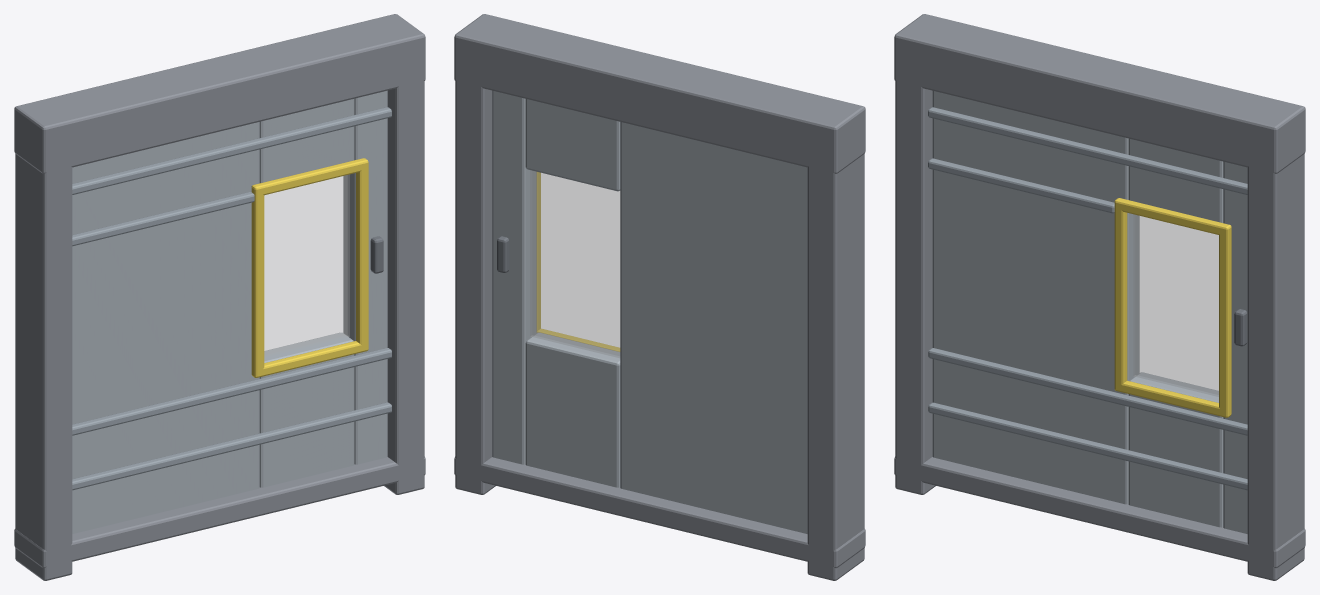
The model's file is ворота.glb.
The picture shows the model from 3 angles, left to right: view 1: azimuth 30°, elevation 25°; view 2: azimuth 150°, elevation 25°; view 3: azimuth 330°, elevation 25°; orthographic projection.
Parts seen in each view (by area): view 1: GateLeaf_Mesh, ворота; view 2: GateLeaf_Mesh, ворота; view 3: GateLeaf_Mesh, ворота.
Part boxes in pixels (x1,y1,x2,y2): GateLeaf_Mesh: (72, 90, 391, 533); ворота: (14, 14, 425, 580); GateLeaf_Mesh: (492, 90, 807, 533); ворота: (454, 14, 865, 580); GateLeaf_Mesh: (928, 91, 1247, 533); ворота: (894, 14, 1305, 580).
Size of the model in its own units: 2.35 by 2.67 by 0.32.
